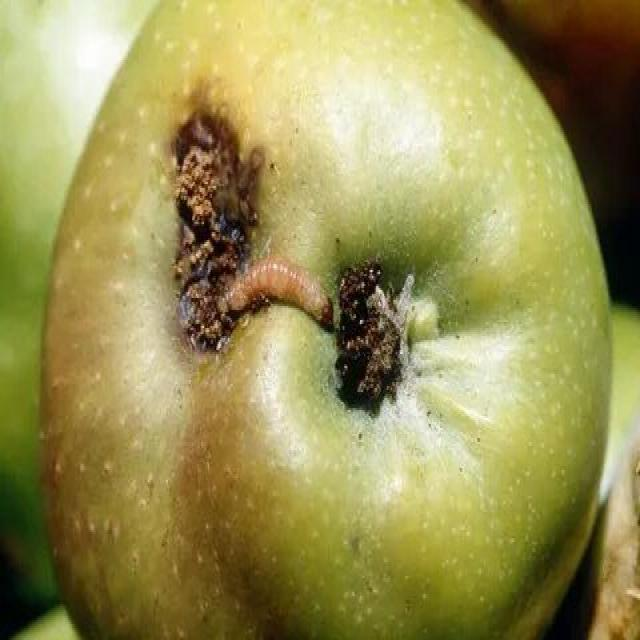Rotten: (40, 1, 615, 640)
